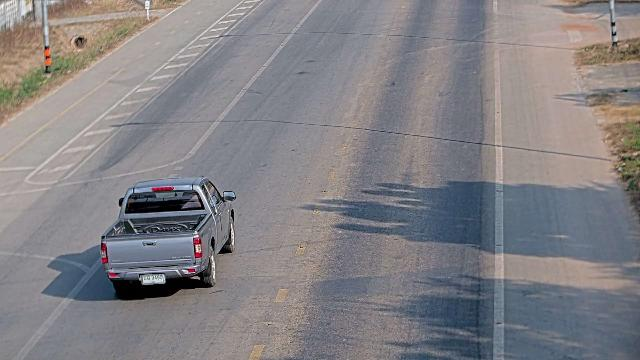pickup-truck: (99, 176, 237, 293)
